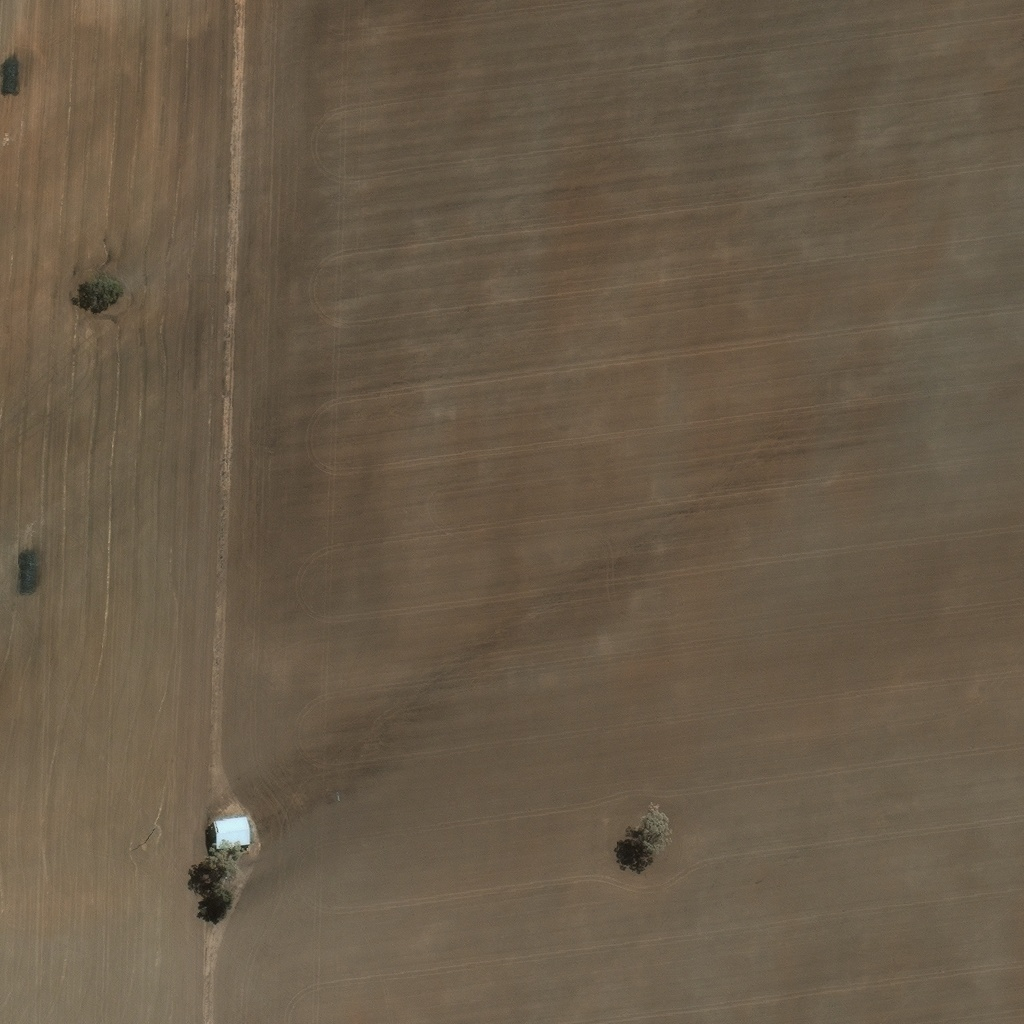0 no-damage: (215, 825, 255, 859)
